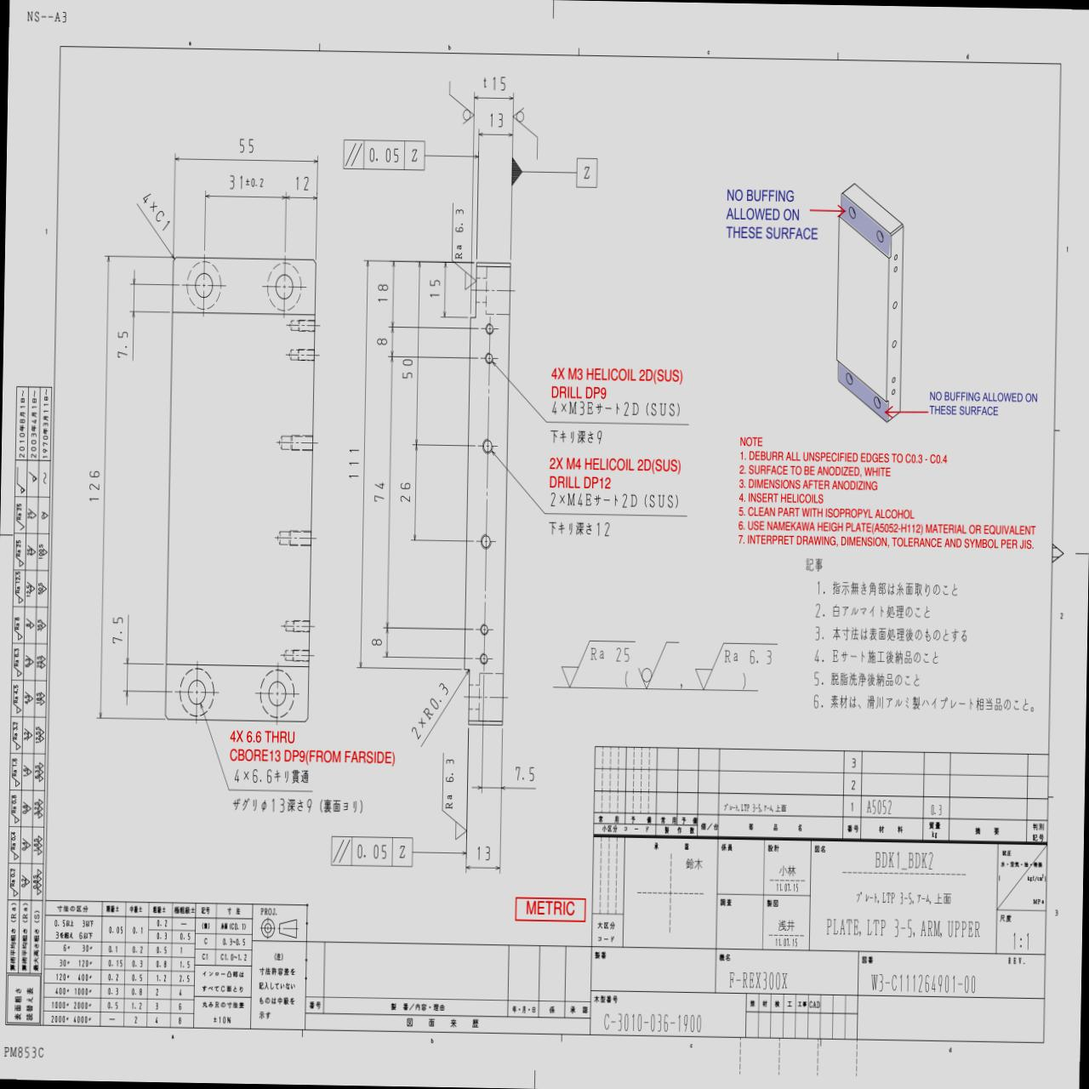basic_dimension: (230, 175, 264, 190), (348, 449, 360, 479), (89, 471, 100, 502), (515, 766, 535, 781), (117, 331, 128, 358), (112, 617, 123, 644), (400, 482, 411, 503), (239, 138, 253, 154), (402, 359, 413, 379), (490, 112, 503, 128), (374, 482, 384, 502), (296, 176, 309, 191), (477, 846, 490, 861), (377, 284, 388, 301), (429, 279, 440, 296), (376, 338, 388, 345), (371, 639, 382, 646)
datum_symbol: (511, 156, 598, 188)
dimension_chamfer_symbol: (155, 209, 171, 232)
dimension_diameter_symbol: (260, 796, 285, 814)
dimension_metric_symbol: (567, 491, 584, 508), (568, 400, 585, 416)
dimension_radius_symbol: (423, 682, 449, 721)
dimension_thickness_symbol: (482, 75, 507, 91)
gdt_frame_symbol: (342, 138, 427, 173), (329, 834, 414, 869)
gdt_parallelism_symbol: (332, 838, 351, 864), (345, 141, 363, 168)
surface_finish_symbol: (695, 642, 778, 691), (561, 640, 636, 688), (451, 203, 477, 290), (442, 752, 467, 841), (638, 641, 679, 690), (512, 107, 538, 160), (449, 81, 475, 125)
